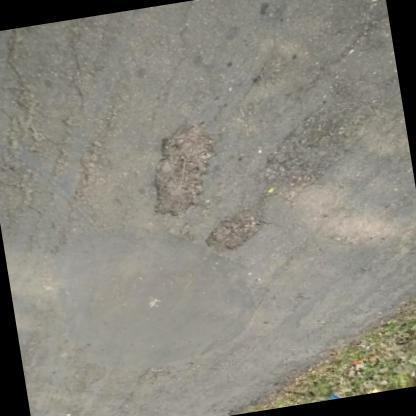pothole: (263, 98, 356, 190), (145, 128, 221, 218), (204, 208, 272, 252)
